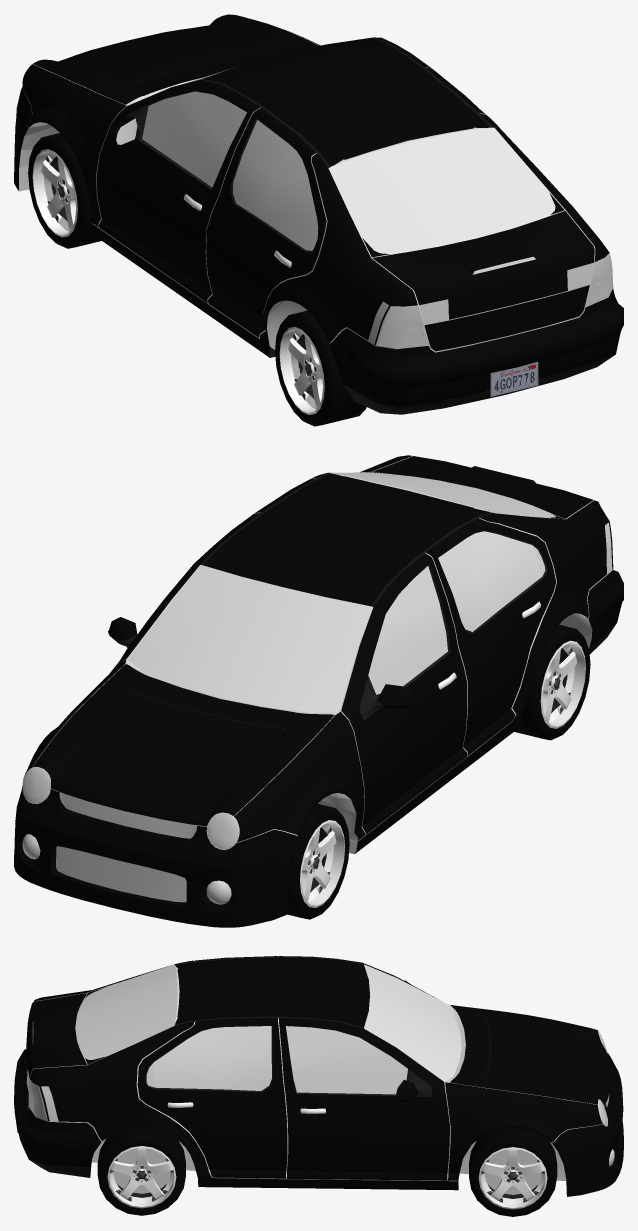
Rendered from va_vw_jetta_03.glb.
3 renders of one model, top to bottom at view 1: azimuth 30°, elevation 25°; view 2: azimuth 150°, elevation 25°; view 3: azimuth 270°, elevation 25°, orthographic. The views are drawn at different scales.
Parts seen in each view (by area): view 1: va_vw_jetta_03/resources/vehicle/va_vw_jetta_03/body_lod_0.x (×6); view 2: va_vw_jetta_03/resources/vehicle/va_vw_jetta_03/body_lod_0.x (×6); view 3: va_vw_jetta_03/resources/vehicle/va_vw_jetta_03/body_lod_0.x (×6).
Boxes of the visible parts, x1,y1,x2,y2 form: va_vw_jetta_03/resources/vehicle/va_vw_jetta_03/body_lod_0.x (×6): (14,14,623,426); va_vw_jetta_03/resources/vehicle/va_vw_jetta_03/body_lod_0.x (×6): (14,455,623,927); va_vw_jetta_03/resources/vehicle/va_vw_jetta_03/body_lod_0.x (×6): (14,956,623,1216).
Bounding box in the file's own units: 1.9 × 1.45 × 4.37.
Materials: 12 (8 with a texture image).
